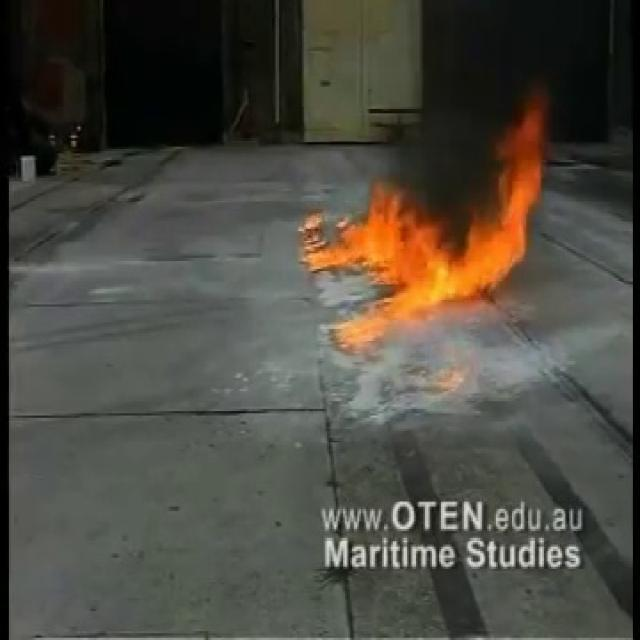Fire: (306, 101, 556, 352)
Smoke: (384, 0, 638, 166)
